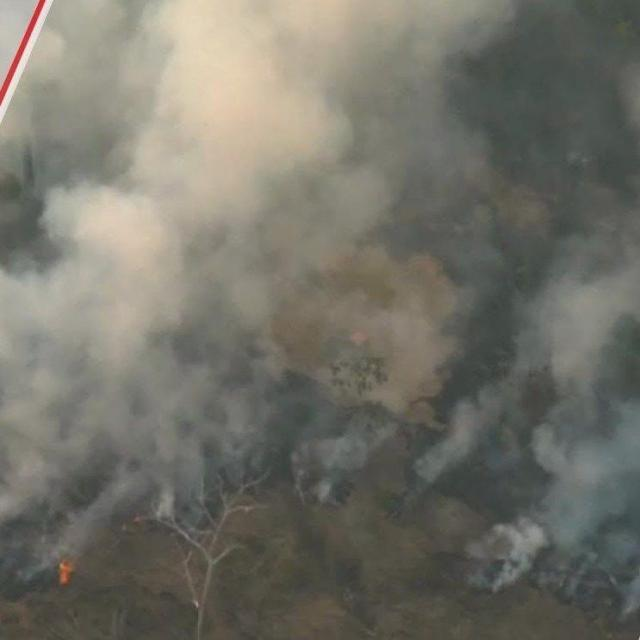Smoke: (26, 64, 466, 512)
